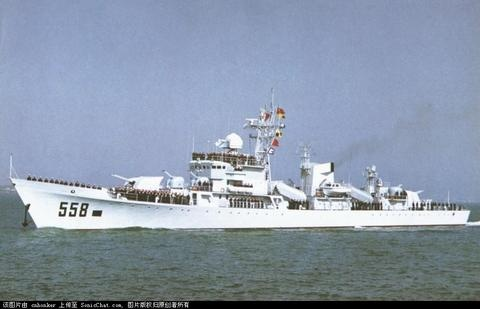warship: (5, 87, 473, 233)
